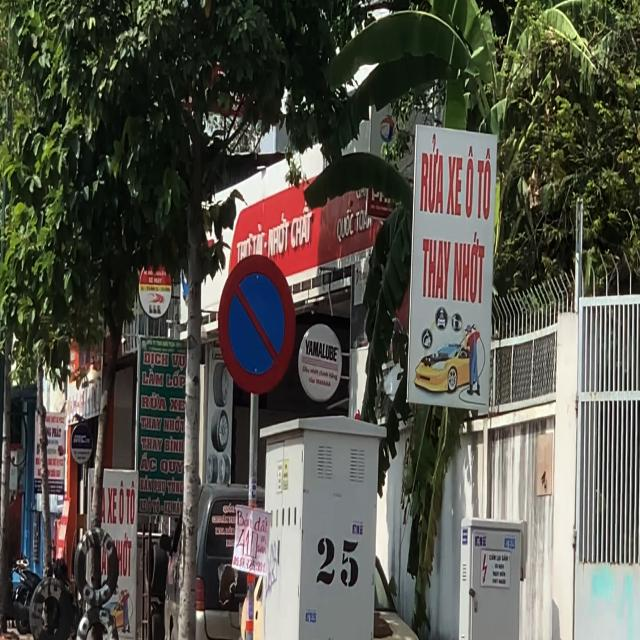Cam do: (209, 238, 302, 412)
